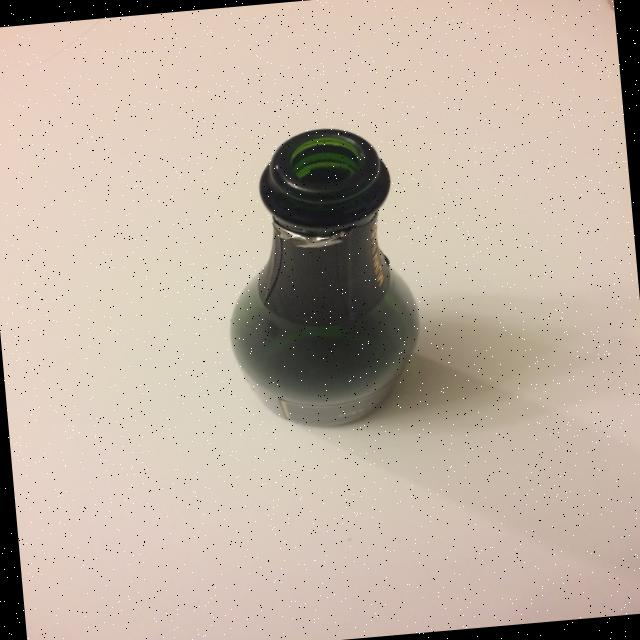glass: (212, 120, 429, 435)
